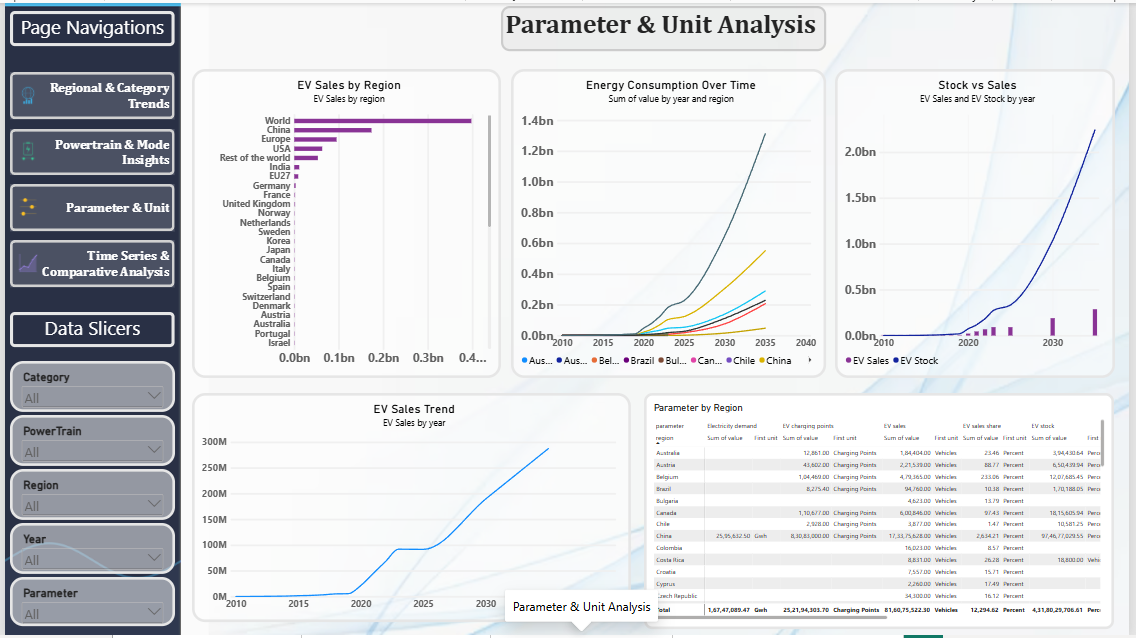

Layout of this report page (visuals, bound fields, positions):
{"tool":"powerbi","page":{"name":"Parameter & Unit Analysis ","canvas":[2560,1440],"ordinal":2},"visuals":[{"type":"textbox","box":[1130.1,6.8,740.5,102.5],"z":0},{"type":"clusteredBarChart","title":"EV Sales by Region","fields":{"Category":["IEA Global EV Data 2024.region"],"Y":["IEA Global EV Data 2024.EV Sales"]},"box":[426.1,150.4,704.1,704.1],"z":1000},{"type":"lineChart","title":"EV Sales Trend","fields":{"Category":["IEA Global EV Data 2024.year"],"Y":["IEA Global EV Data 2024.EV Sales"]},"box":[425,887.5,1000.3,521.8],"z":2000},{"type":"lineChart","title":"Energy Consumption Over Time","fields":{"Category":["IEA Global EV Data 2024.year"],"Series":["IEA Global EV Data 2024.region"],"Y":["Sum(IEA Global EV Data 2024.value)"]},"box":[1152.9,150.4,717.7,704.1],"z":3000},{"type":"lineClusteredColumnComboChart","title":"Stock vs Sales","fields":{"Category":["IEA Global EV Data 2024.year"],"Y":["IEA Global EV Data 2024.EV Sales"],"Y2":["IEA Global EV Data 2024.EV Stock"]},"box":[1891.1,150.4,638,704.1],"z":4000},{"type":"pivotTable","title":"Parameter by Region","fields":{"Columns":["IEA Global EV Data 2024.parameter"],"Rows":["IEA Global EV Data 2024.region"],"Values":["Sum(IEA Global EV Data 2024.value)","Min(IEA Global EV Data 2024.unit)"]},"box":[1455.9,888.6,1070.9,537.7],"z":5000},{"type":"textbox","box":[12.5,17.5,375,80],"z":6000},{"type":"actionButton","box":[12.5,287.5,375,105],"z":7000},{"type":"actionButton","box":[12.5,412.5,375,107.5],"z":8000},{"type":"actionButton","box":[12.5,540,375,107.5],"z":9000},{"type":"actionButton","box":[12.5,157.5,375,107.5],"z":10000},{"type":"textbox","box":[11.4,704.1,375,80],"z":11000},{"type":"slicer","fields":{"Values":["IEA Global EV Data 2024.category"]},"box":[11.4,815.7,375.9,116.2],"z":12000},{"type":"slicer","fields":{"Values":["IEA Global EV Data 2024.powertrain"]},"box":[11.4,938.7,375.9,116.2],"z":13000},{"type":"slicer","fields":{"Values":["IEA Global EV Data 2024.region"]},"box":[11.4,1061.8,375.9,116.2],"z":14000},{"type":"slicer","fields":{"Values":["IEA Global EV Data 2024.year"]},"box":[11.4,1184.8,375.9,116.2],"z":15000},{"type":"slicer","fields":{"Values":["IEA Global EV Data 2024.parameter"]},"box":[11.4,1307.8,375.9,111.6],"z":16000}]}

Visuals, with their boxes on the page's 2560x1440 design canvas (x1, y1, x2, y2). These are canvas units, not pixel positions in the 1136x638 screenshot, which may show the page scaled, cropped or inside an application window:
textbox: region(1130, 7, 1871, 109)
"EV Sales by Region" clusteredBarChart: region(426, 150, 1130, 854)
"EV Sales Trend" lineChart: region(425, 888, 1425, 1409)
"Energy Consumption Over Time" lineChart: region(1153, 150, 1871, 854)
"Stock vs Sales" lineClusteredColumnComboChart: region(1891, 150, 2529, 854)
"Parameter by Region" pivotTable: region(1456, 889, 2527, 1426)
textbox: region(12, 18, 388, 98)
actionButton: region(12, 288, 388, 392)
actionButton: region(12, 412, 388, 520)
actionButton: region(12, 540, 388, 648)
actionButton: region(12, 158, 388, 265)
textbox: region(11, 704, 386, 784)
slicer - IEA Global EV Data 2024.category: region(11, 816, 387, 932)
slicer - IEA Global EV Data 2024.powertrain: region(11, 939, 387, 1055)
slicer - IEA Global EV Data 2024.region: region(11, 1062, 387, 1178)
slicer - IEA Global EV Data 2024.year: region(11, 1185, 387, 1301)
slicer - IEA Global EV Data 2024.parameter: region(11, 1308, 387, 1419)
